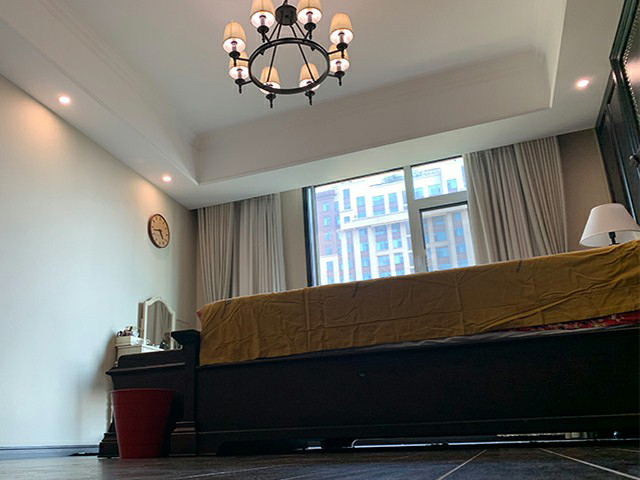bed: (168, 239, 640, 457)
trashcan: (109, 386, 175, 460)
